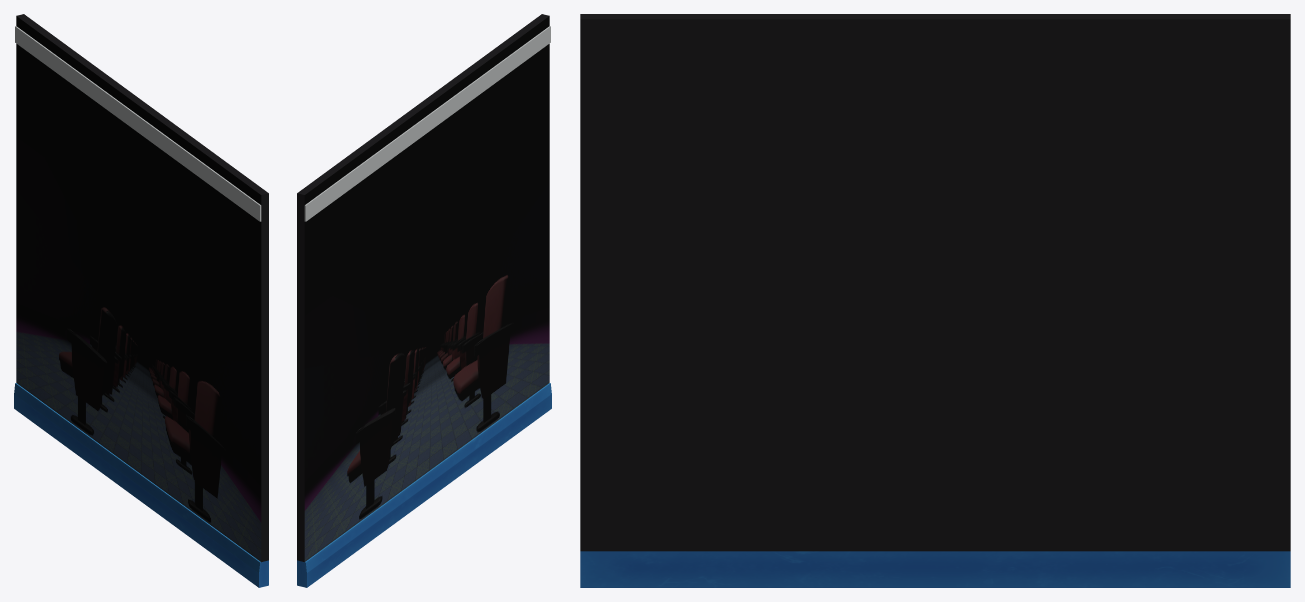
File: WW_sidewall.fbx
The picture shows the model from 3 angles, left to right: view 1: azimuth 30°, elevation 25°; view 2: azimuth 150°, elevation 25°; view 3: azimuth 270°, elevation 25°; orthographic projection. The views are drawn at different scales.
Parts seen in each view (by area): view 1: WW_wall_duct_geo1; view 2: WW_wall_duct_geo1; view 3: WW_wall_duct_geo1.
Part boxes in pixels (x1,y1,x2,y2): WW_wall_duct_geo1: (14,14,268,587); WW_wall_duct_geo1: (297,14,551,587); WW_wall_duct_geo1: (580,14,1290,587).
Bounding box in the file's own units: 10.97 × 415 × 470.
